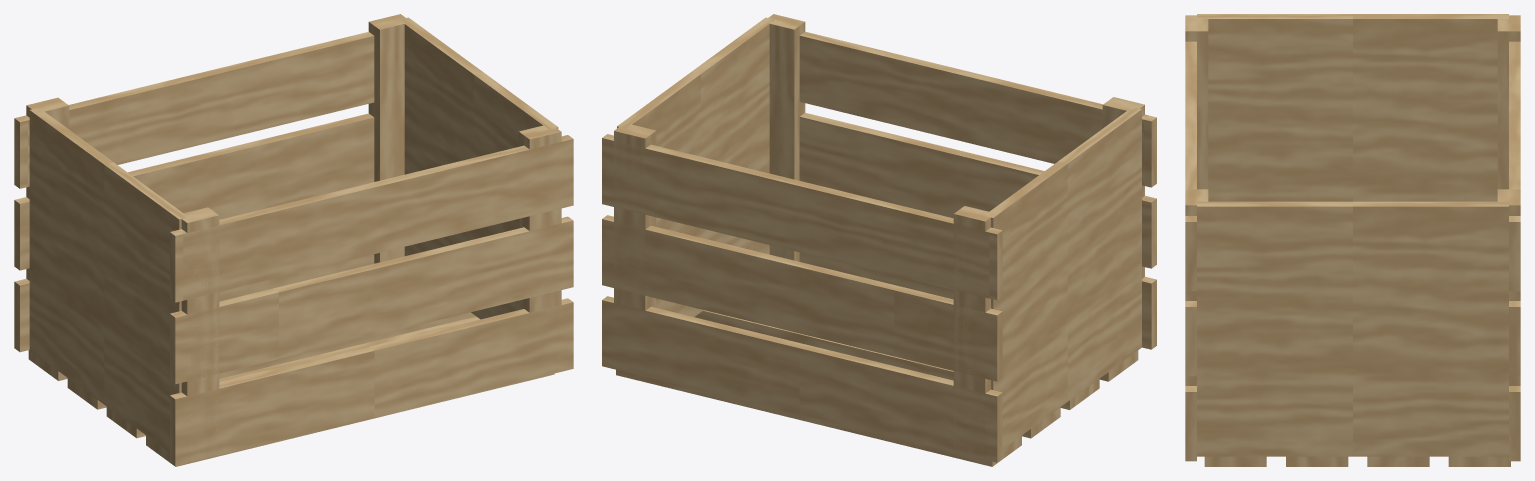
3 renders of one model, left to right at view 1: azimuth 30°, elevation 25°; view 2: azimuth 150°, elevation 25°; view 3: azimuth 270°, elevation 25°, orthographic. The views are drawn at different scales.
Parts seen in each view (by area): view 1: Wooden crate; view 2: Wooden crate; view 3: Wooden crate.
Boxes of the visible parts, x1,y1,x2,y2 form: Wooden crate: [14, 14, 573, 466]; Wooden crate: [602, 14, 1156, 466]; Wooden crate: [1185, 14, 1520, 466].
Size of the model in its own units: 0.5 by 0.3 by 0.35.
1 material, 1 textured.
